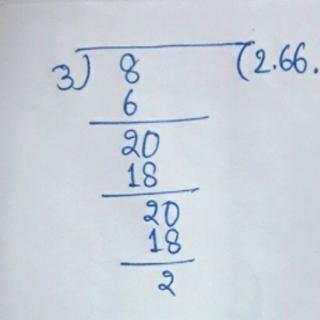.: (268, 60, 279, 72), (313, 68, 320, 74)
0: (141, 127, 161, 160), (161, 198, 181, 230)
1: (129, 158, 140, 195), (148, 229, 164, 253)
2: (153, 269, 180, 296), (119, 127, 140, 159), (252, 44, 271, 78), (142, 196, 160, 227)
3: (49, 57, 76, 95)
6: (120, 88, 142, 117), (293, 42, 309, 73), (278, 45, 295, 71)
8: (122, 50, 142, 82), (141, 159, 159, 191), (166, 225, 182, 257)
